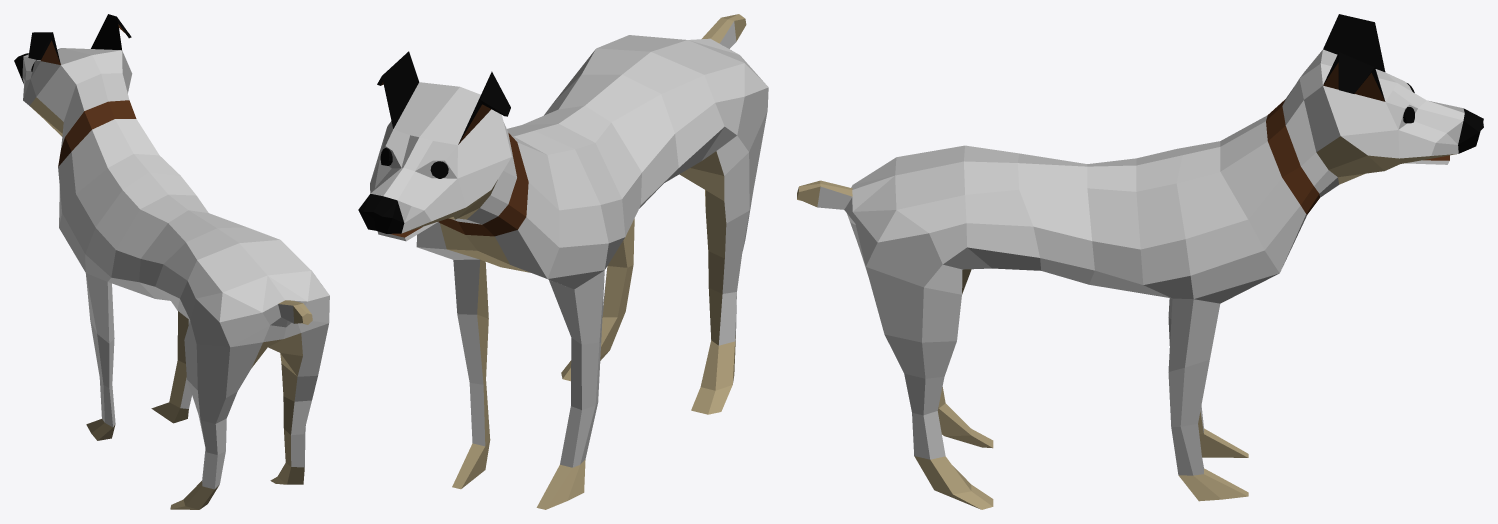
File: dog.obj
The picture shows the model from 3 angles, left to right: view 1: azimuth 30°, elevation 25°; view 2: azimuth 150°, elevation 25°; view 3: azimuth 270°, elevation 25°; orthographic projection. The views are drawn at different scales.
Visible parts, largest first — view 1: luna-dog_white_0, luna-dog_yellow-white_0, luna-dog_brown_0, luna-dog_black_0; view 2: luna-dog_white_0, luna-dog_yellow-white_0, luna-dog_black_0, luna-dog_brown_0; view 3: luna-dog_white_0, luna-dog_yellow-white_0, luna-dog_black_0, luna-dog_brown_0.
Part boxes in pixels (<box>): luna-dog_white_0: <box>22,48,329,489</box>; luna-dog_yellow-white_0: <box>30,97,312,509</box>; luna-dog_brown_0: <box>40,24,136,166</box>; luna-dog_black_0: <box>14,14,131,83</box>; luna-dog_white_0: <box>370,21,768,467</box>; luna-dog_yellow-white_0: <box>404,14,746,509</box>; luna-dog_black_0: <box>358,51,510,233</box>; luna-dog_brown_0: <box>381,82,528,237</box>; luna-dog_white_0: <box>817,49,1464,475</box>; luna-dog_yellow-white_0: <box>797,136,1456,509</box>; luna-dog_black_0: <box>1323,14,1483,153</box>; luna-dog_brown_0: <box>1266,62,1449,214</box>.
Size of the model in its own units: 1.3 by 3.66 by 5.15.
